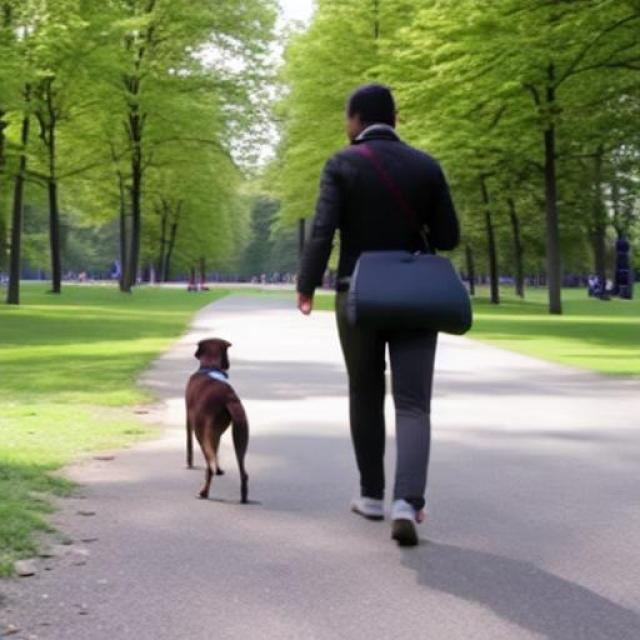Unleashed_Dog: (185, 325, 429, 506)
